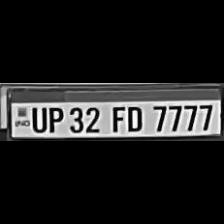2: (83, 104, 103, 132)
3: (65, 104, 83, 132)
7: (148, 103, 168, 132), (164, 101, 182, 131), (195, 102, 213, 131), (182, 102, 198, 131)
D: (123, 103, 145, 132)
F: (106, 103, 126, 132)
P: (44, 104, 64, 132)
U: (28, 104, 46, 132)
